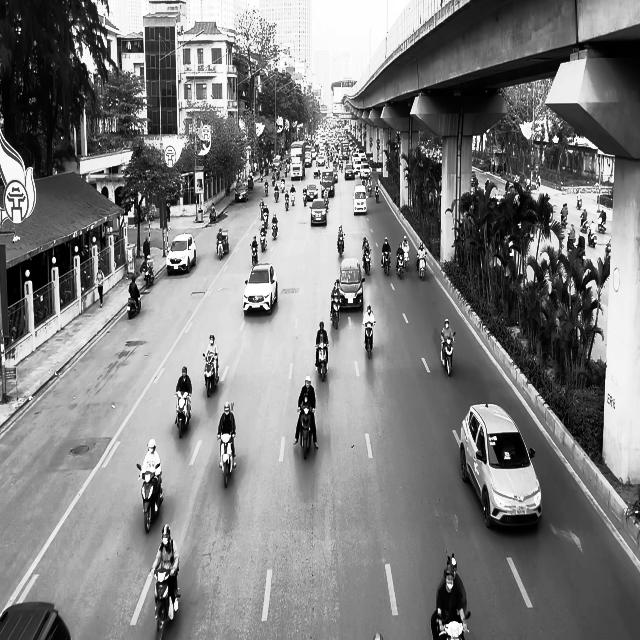bus: (290, 140, 304, 181)
car: (460, 402, 542, 530), (242, 263, 278, 315), (337, 257, 365, 311), (166, 233, 196, 275), (309, 198, 327, 226), (353, 185, 367, 214), (234, 183, 248, 202)
motorbike: (152, 567, 180, 640), (136, 463, 164, 533), (218, 431, 236, 488), (298, 402, 314, 460), (174, 390, 192, 438), (202, 353, 219, 397), (440, 331, 456, 376), (315, 342, 328, 381), (363, 322, 375, 358), (127, 291, 141, 319), (330, 296, 341, 330), (416, 251, 426, 280), (381, 249, 391, 275), (587, 221, 597, 247), (144, 262, 154, 288), (362, 248, 371, 274), (396, 253, 404, 279), (604, 236, 612, 262), (216, 239, 224, 260), (251, 242, 258, 266), (337, 233, 344, 256), (260, 228, 266, 251), (271, 220, 278, 239), (375, 185, 380, 202)
